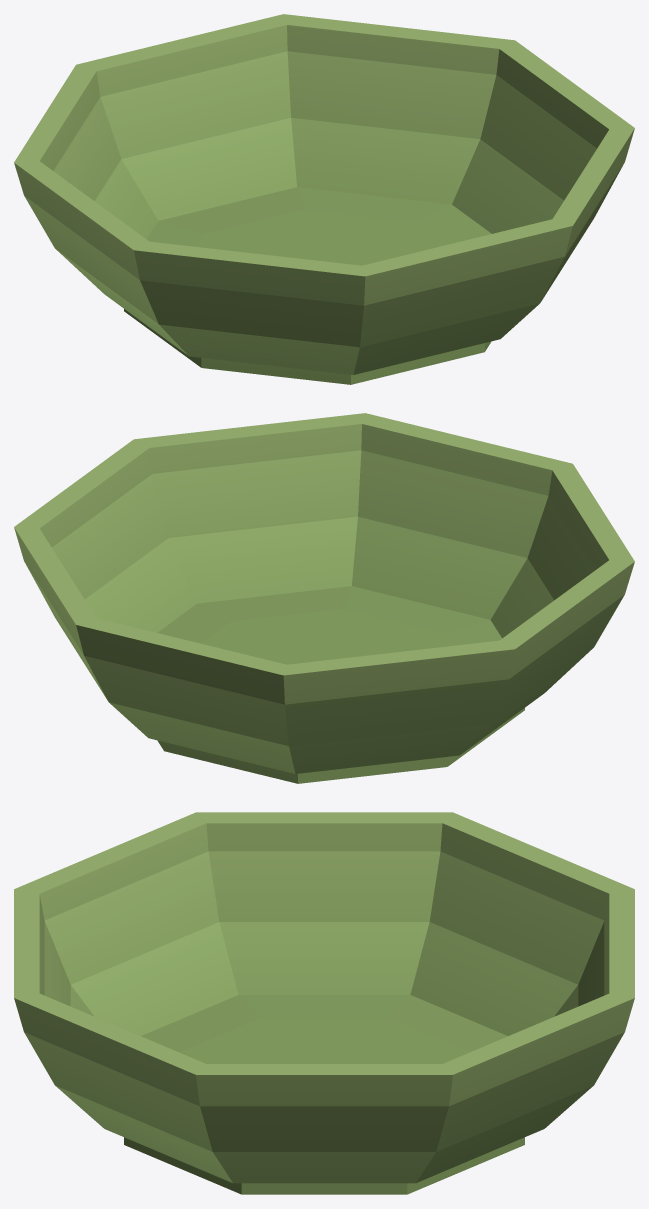
The model's file is Plate6_C4.fbx.
3 views of the same model, one above another, from view 1: azimuth 30°, elevation 25°; view 2: azimuth 150°, elevation 25°; view 3: azimuth 270°, elevation 25° (orthographic). The views are drawn at different scales.
Parts seen in each view (by area): view 1: Plate6_C4; view 2: Plate6_C4; view 3: Plate6_C4.
Part boxes in pixels (<box>): Plate6_C4: <box>14,14,634,384</box>; Plate6_C4: <box>14,413,634,783</box>; Plate6_C4: <box>14,812,634,1194</box>.
Size of the model in its own units: 33.84 by 10 by 33.84.
